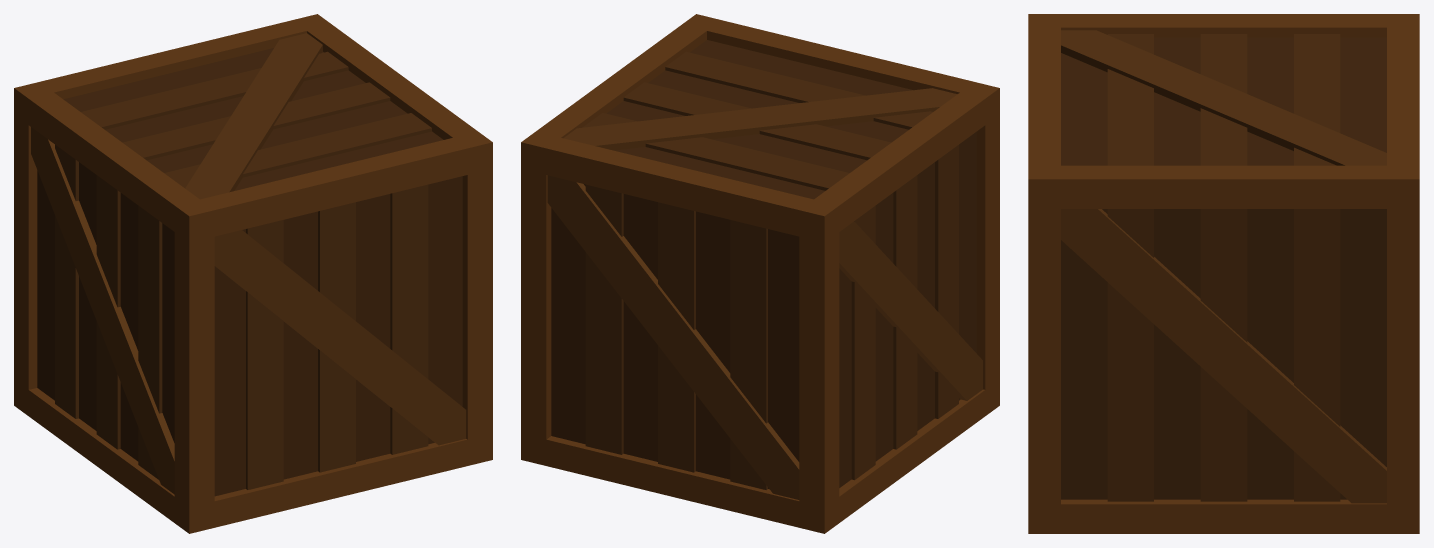
Rendered from WoodenCrate.FBX.
3 renders of one model, left to right at view 1: azimuth 30°, elevation 25°; view 2: azimuth 150°, elevation 25°; view 3: azimuth 270°, elevation 25°, orthographic. The views are drawn at different scales.
Visible parts, largest first — view 1: Crate; view 2: Crate; view 3: Crate.
Part boxes in pixels (x1,y1,x2,y2): Crate: (14, 14, 492, 533); Crate: (521, 14, 999, 533); Crate: (1028, 14, 1419, 533).
Size of the model in its own units: 59.06 by 59.06 by 59.06.
